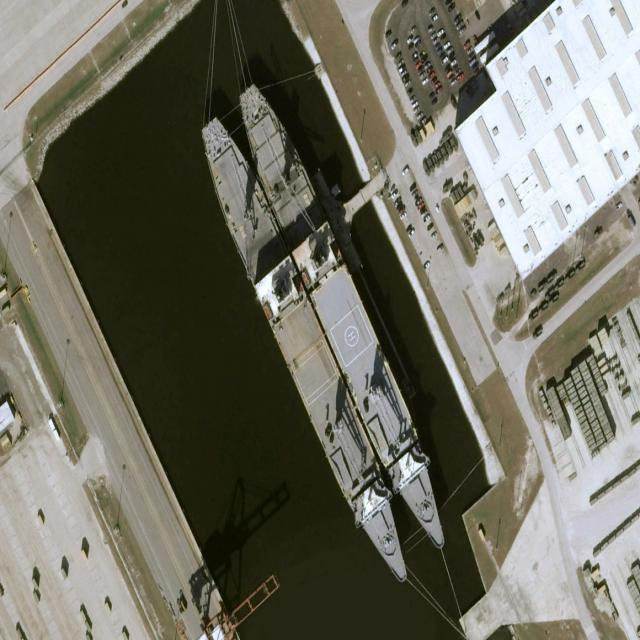Cargo: (228, 72, 460, 564), (190, 105, 420, 596)
